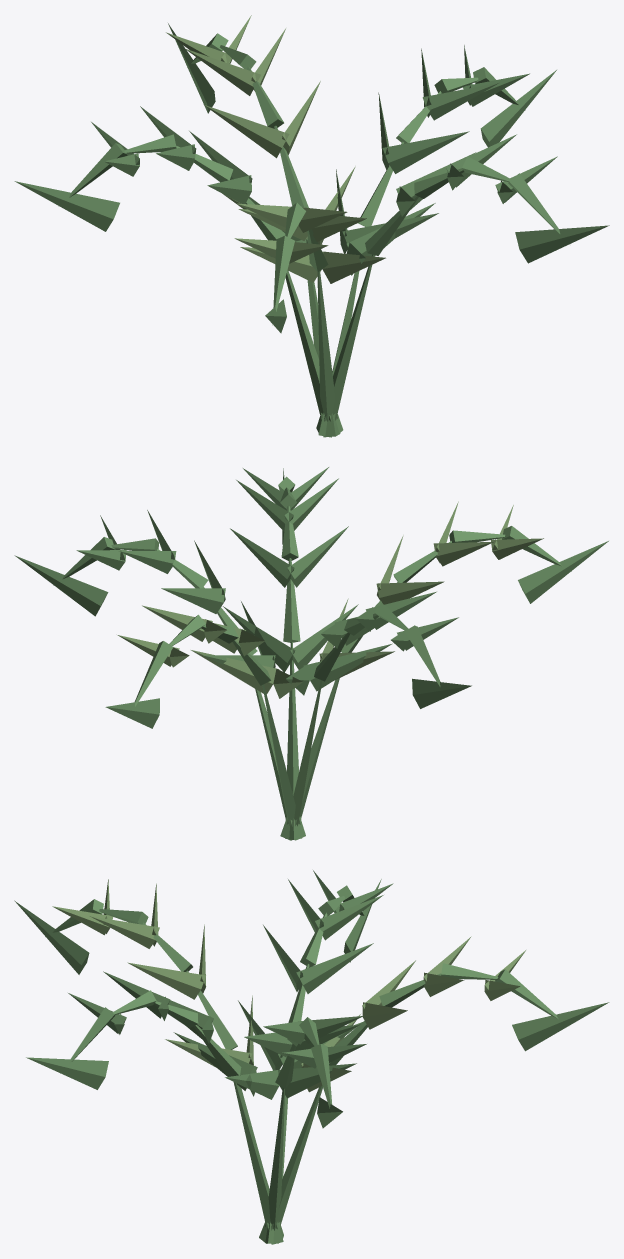
The model's file is woodland-fern-01.glb.
3 views of the same model, one above another, from view 1: azimuth 30°, elevation 25°; view 2: azimuth 150°, elevation 25°; view 3: azimuth 270°, elevation 25° (orthographic). The views are drawn at different scales.
Parts seen in each view (by area): view 1: woodland-fern-01; view 2: woodland-fern-01; view 3: woodland-fern-01.
Boxes of the visible parts, x1=… form: woodland-fern-01: x1=14, y1=15, x2=609, y2=437; woodland-fern-01: x1=14, y1=467, x2=608, y2=840; woodland-fern-01: x1=14, y1=870, x2=609, y2=1244.
Size of the model in its own units: 0.1914 by 0.1109 by 0.2061.
